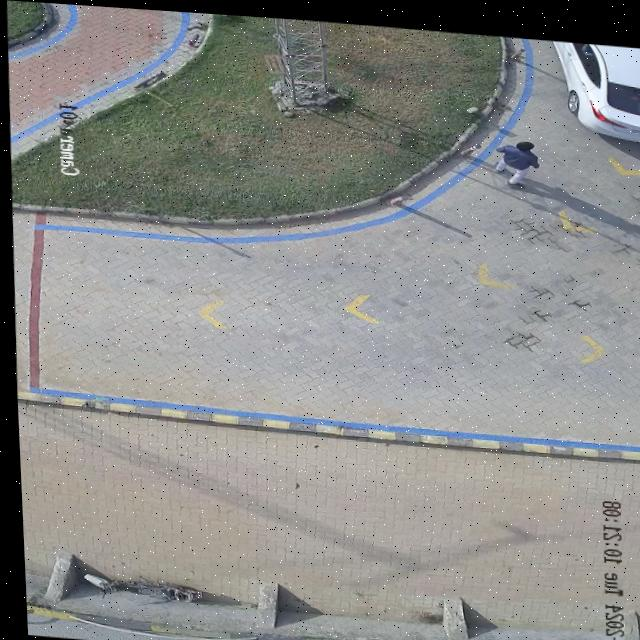car: (552, 33, 640, 133)
